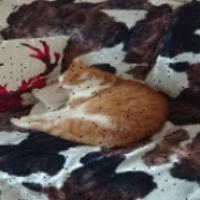asleep: (8, 48, 170, 152)
